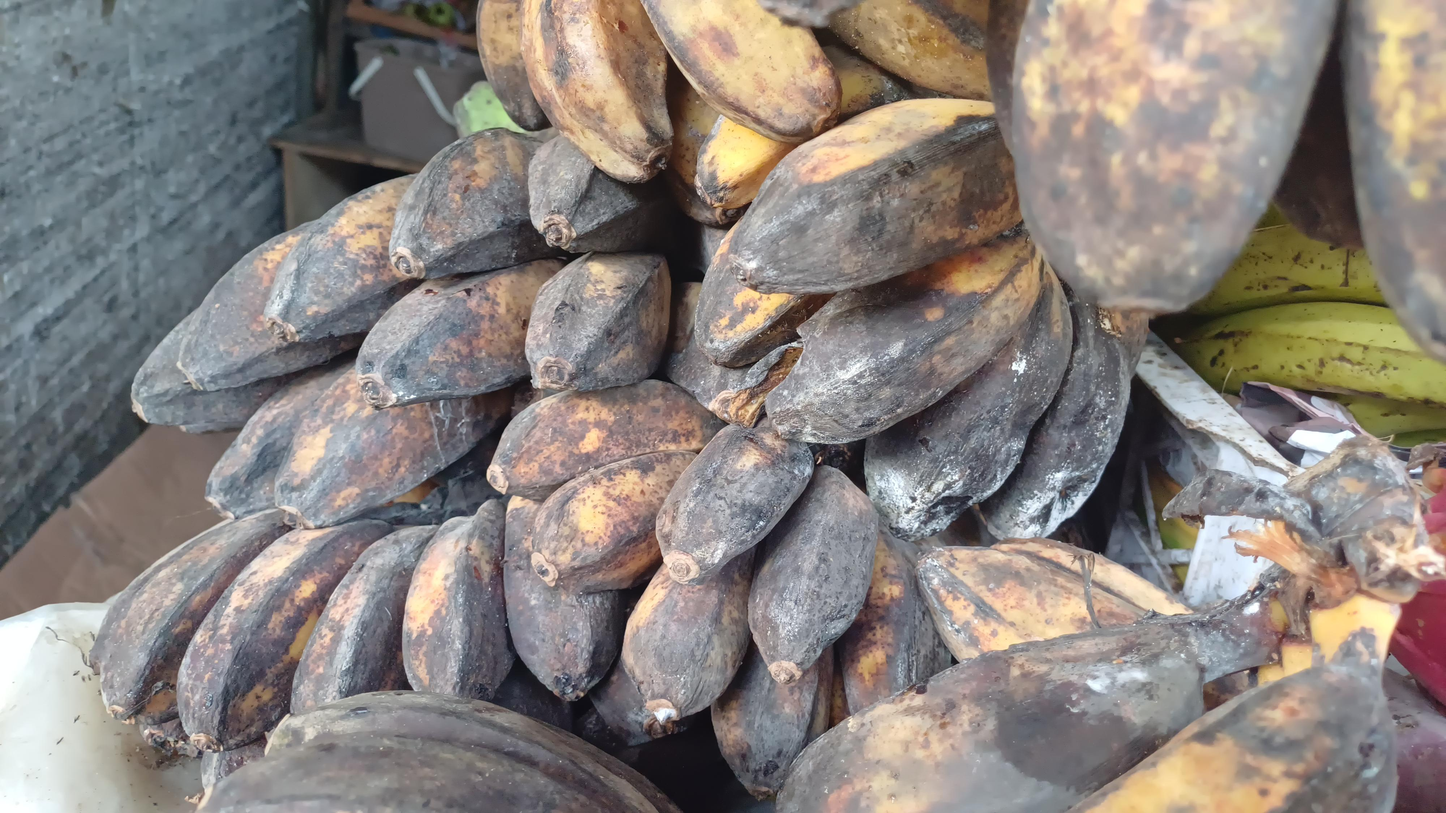overripe: (129, 131, 754, 529), (695, 43, 1131, 541), (484, 378, 955, 802), (87, 495, 690, 796), (987, 0, 1446, 363), (777, 624, 1401, 813), (192, 690, 687, 813)
ripe: (474, 0, 844, 229)
